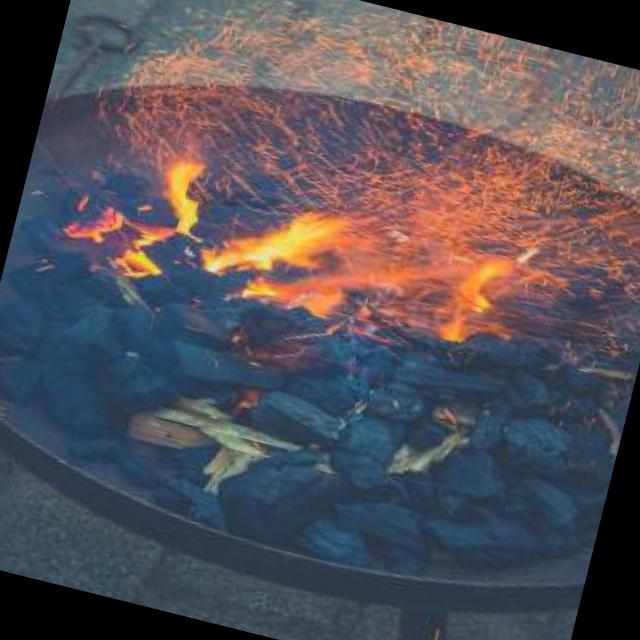fire: (113, 102, 598, 385)
